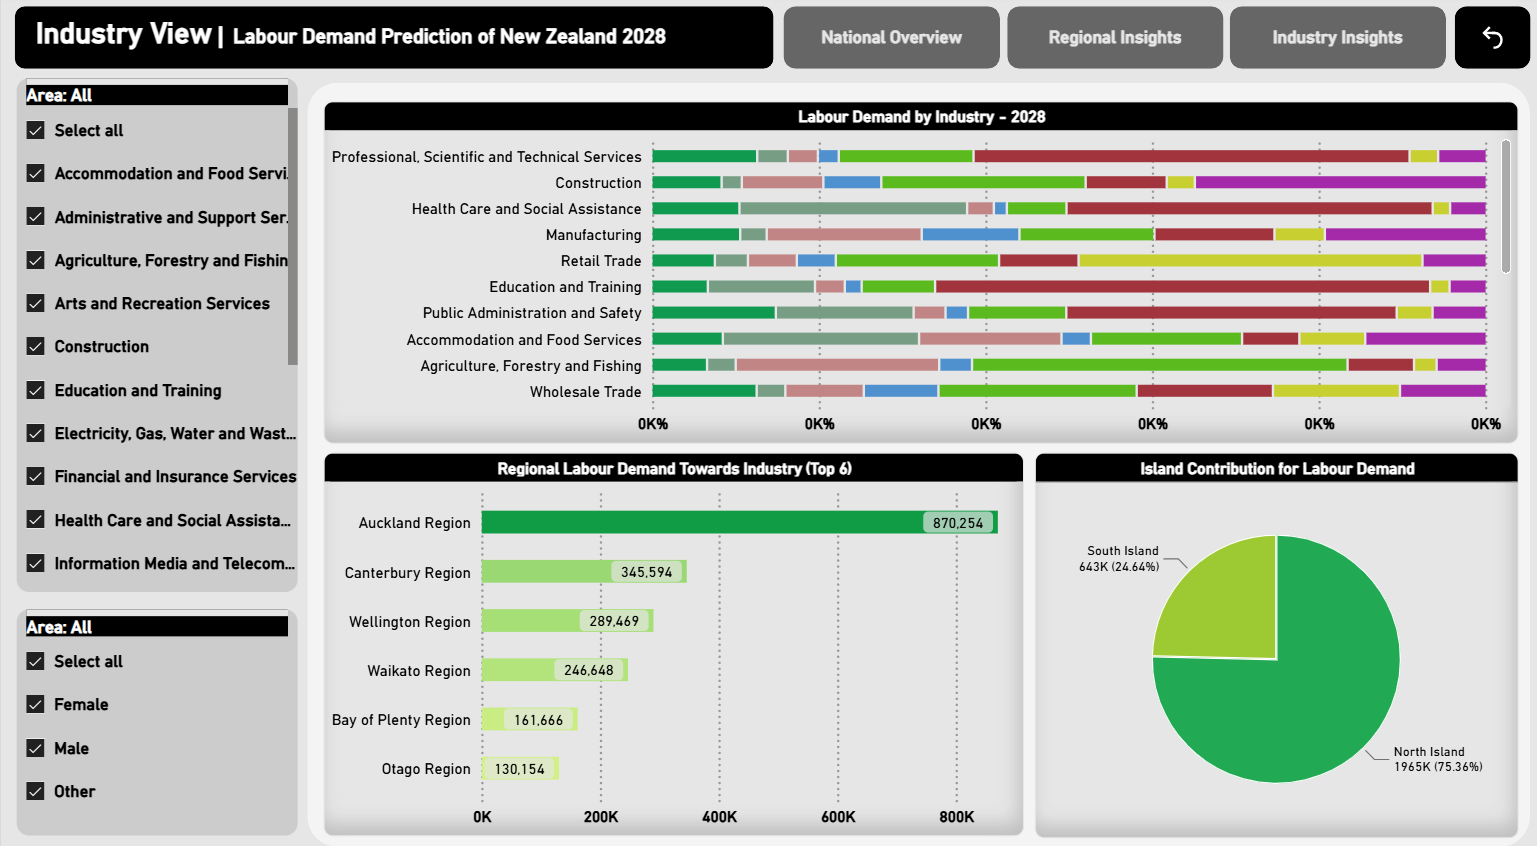

What the dashboard file says about the page in this screenshot:
{"tool":"powerbi","page":{"name":"Industry_Insights","canvas":[1280,720],"ordinal":2},"visuals":[{"type":"shape","box":[255.1,73.1,1016.7,635.6],"z":0},{"type":"shape","box":[11.4,9.4,630.8,52],"z":1000},{"type":"textbox","box":[29,18,588,33],"z":2000},{"type":"actionButton","box":[650.6,9.4,180,52],"z":3000},{"type":"actionButton","box":[836.6,9.4,179.8,52],"z":4000},{"type":"actionButton","box":[1021.8,9,179.8,52],"z":5000},{"type":"actionButton","box":[1209,9,63,52],"z":9000},{"type":"hundredPercentStackedBarChart","title":"Labour Demand by Industry - 2028","fields":{"Y":["LabourPred2028.Labour Demand 2028"],"Series":["LabourPred2028.occupation"],"Category":["LabourPred2028.industry"]},"box":[267.9,88.5,993.6,284.6],"z":10000},{"type":"slicer","fields":{"Values":["LabourPred2028.industry"]},"box":[11.5,67.9,237.2,430.8],"z":12000},{"type":"clusteredBarChart","title":"Regional Labour Demand Towards Industry (Top 6)","fields":{"Category":["LabourPred2028.area"],"Y":["LabourPred2028.Labour Demand 2028"]},"box":[267.9,380.8,582.1,319.2],"z":13000},{"type":"pieChart","title":"Island Contribution for Labour Demand","fields":{"Category":["LabourPred2028.island"],"Y":["LabourPred2028.Labour Demand 2028"]},"box":[859,380.8,402.6,320.5],"z":14000},{"type":"slicer","fields":{"Values":["LabourPred2028.gender"]},"box":[11.5,509,237.2,191],"z":15000}]}

Visuals, with their boxes in screenshot pixels (x1, y1, x2, y2), scaled from the page's 1280x720 canvas onto the 1537x846 screenshot:
shape: [306, 86, 1527, 833]
shape: [14, 11, 771, 72]
textbox: [35, 21, 741, 60]
actionButton: [781, 11, 997, 72]
actionButton: [1005, 11, 1220, 72]
actionButton: [1227, 11, 1443, 72]
actionButton: [1452, 11, 1527, 72]
"Labour Demand by Industry - 2028" hundredPercentStackedBarChart: [322, 104, 1515, 438]
slicer - LabourPred2028.industry: [14, 80, 299, 586]
"Regional Labour Demand Towards Industry (Top 6)" clusteredBarChart: [322, 447, 1021, 822]
"Island Contribution for Labour Demand" pieChart: [1031, 447, 1515, 824]
slicer - LabourPred2028.gender: [14, 598, 299, 822]
